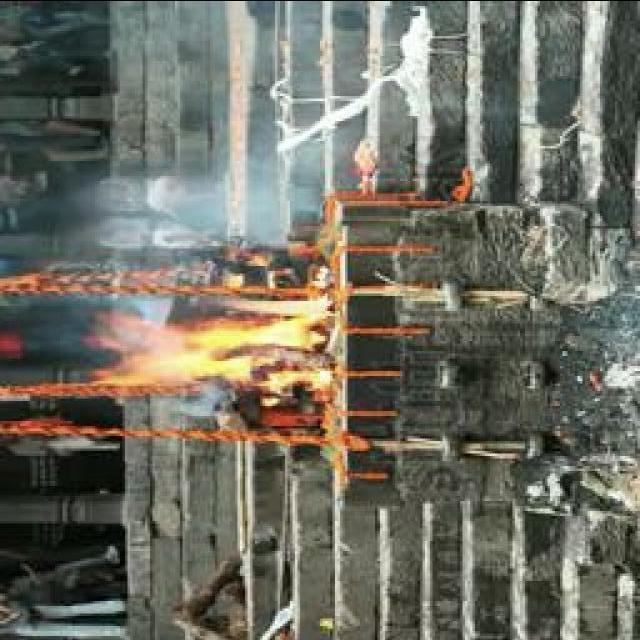Fire: (103, 290, 329, 396)
